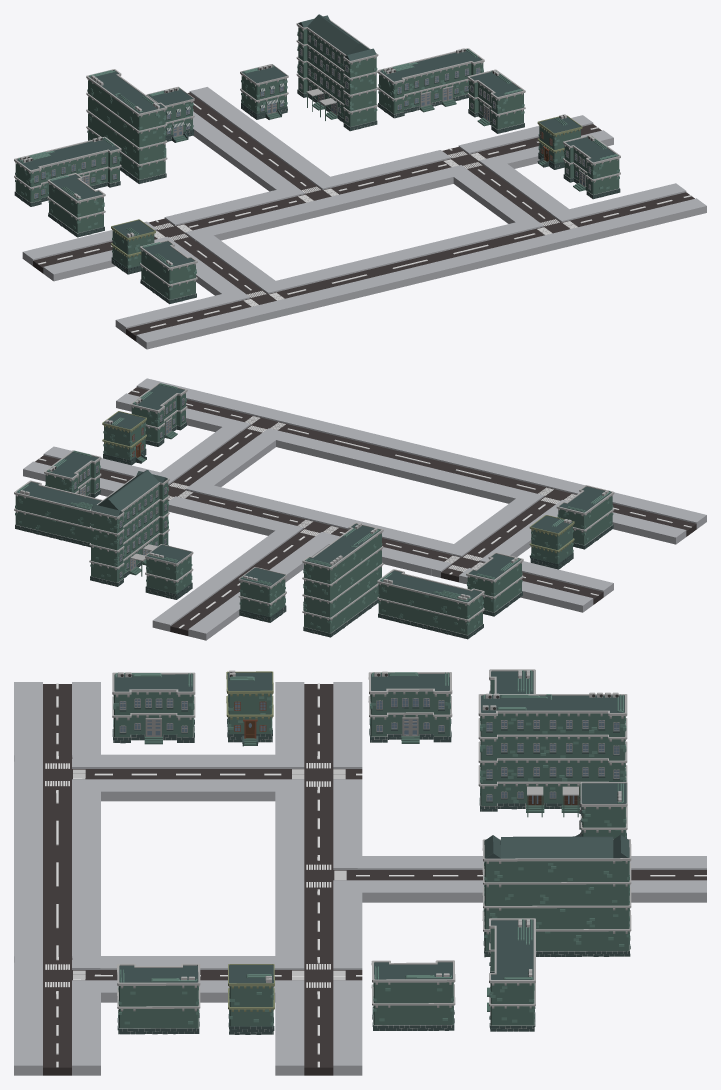
Rendered from city-new.fbx.
The picture shows the model from 3 angles, top to bottom: view 1: azimuth 30°, elevation 25°; view 2: azimuth 150°, elevation 25°; view 3: azimuth 270°, elevation 25°; orthographic projection. The views are drawn at different scales.
Parts seen in each view (by area): view 1: Street_Straight.001_Cube.012, 4Story_Wide_2Doors_Roof_Mat_Cube.004, 4Story_Wide_2Doors_Mat_Cube.013, 2Story_Wide_2Doors_Mat_Cube.001, 2Story_Wide_2Doors_Mat_Cube.002, Street_Straight.001_Cube.011, Street_Straight.001_Cube.010, Street_Straight.001_Cube.004, Street_Straight.001_Cube.001, Street_Straight.001_Cube.006, Street_Straight.001_Cube.002, Street_Straight.001_Cube.003 (+16 smaller); view 2: Street_Straight.001_Cube.012, 4Story_Wide_2Doors_Mat_Cube.013, 4Story_Wide_2Doors_Roof_Mat_Cube.004, 2Story_Wide_2Doors_Mat_Cube.002, 2Story_Wide_2Doors_Mat_Cube.001, Street_Straight.001_Cube.002, Street_Straight.001_Cube.004, Street_Straight.001_Cube.007, Street_Straight.001_Cube.011, Street_Straight.001_Cube.003, Street_Straight.001_Cube.008, Street_Straight.001_Cube.006 (+16 smaller); view 3: 4Story_Wide_2Doors_Mat_Cube.013, 4Story_Wide_2Doors_Roof_Mat_Cube.004, Street_Straight.001_Cube.012, Street_Straight.001_Cube.003, Street_Straight.001_Cube.009, Street_Straight.001_Cube.010, Street_Straight.001_Cube.008, Street_Straight.001_Cube.011, Street_Straight.001_Cube.001, Street_Straight.001_Cube.002, 2Story_Wide_Mat_Cube.004, 2Story_Wide_Mat_Cube.002 (+15 smaller).
Boxes of the visible parts, x1=… form: Street_Straight.001_Cube.012: x1=276, y1=222, x2=546, y2=310; 4Story_Wide_2Doors_Roof_Mat_Cube.004: x1=296, y1=14, x2=378, y2=131; 4Story_Wide_2Doors_Mat_Cube.013: x1=86, y1=69, x2=167, y2=183; 2Story_Wide_2Doors_Mat_Cube.001: x1=377, y1=48, x2=484, y2=118; 2Story_Wide_2Doors_Mat_Cube.002: x1=14, y1=136, x2=121, y2=206; Street_Straight.001_Cube.011: x1=115, y1=294, x2=253, y2=349; Street_Straight.001_Cube.010: x1=569, y1=183, x2=706, y2=238; Street_Straight.001_Cube.004: x1=453, y1=163, x2=568, y2=223; Street_Straight.001_Cube.001: x1=180, y1=190, x2=307, y2=240; Street_Straight.001_Cube.006: x1=216, y1=132, x2=329, y2=191; Street_Straight.001_Cube.002: x1=330, y1=152, x2=459, y2=206; Street_Straight.001_Cube.003: x1=174, y1=235, x2=275, y2=295; Street_Straight.001_Cube.012: x1=276, y1=417, x2=546, y2=503; 4Story_Wide_2Doors_Mat_Cube.013: x1=302, y1=522, x2=383, y2=637; 4Story_Wide_2Doors_Roof_Mat_Cube.004: x1=89, y1=470, x2=169, y2=586; 2Story_Wide_2Doors_Mat_Cube.002: x1=377, y1=569, x2=484, y2=639; 2Story_Wide_2Doors_Mat_Cube.001: x1=14, y1=480, x2=102, y2=547; Street_Straight.001_Cube.002: x1=174, y1=485, x2=305, y2=535; Street_Straight.001_Cube.004: x1=160, y1=427, x2=275, y2=486; Street_Straight.001_Cube.007: x1=152, y1=574, x2=240, y2=640; Street_Straight.001_Cube.011: x1=612, y1=492, x2=706, y2=544; Street_Straight.001_Cube.003: x1=453, y1=498, x2=558, y2=557; Street_Straight.001_Cube.008: x1=520, y1=561, x2=613, y2=612; Street_Straight.001_Cube.006: x1=215, y1=530, x2=328, y2=582; 4Story_Wide_2Doors_Mat_Cube.013: x1=478, y1=692, x2=627, y2=817; 4Story_Wide_2Doors_Roof_Mat_Cube.004: x1=482, y1=834, x2=631, y2=957; Street_Straight.001_Cube.012: x1=14, y1=791, x2=100, y2=962; Street_Straight.001_Cube.003: x1=100, y1=754, x2=276, y2=801; Street_Straight.001_Cube.009: x1=275, y1=992, x2=362, y2=1075; Street_Straight.001_Cube.010: x1=14, y1=992, x2=100, y2=1075; Street_Straight.001_Cube.008: x1=275, y1=682, x2=362, y2=757; Street_Straight.001_Cube.011: x1=14, y1=682, x2=100, y2=761; Street_Straight.001_Cube.001: x1=275, y1=785, x2=362, y2=860; Street_Straight.001_Cube.002: x1=275, y1=889, x2=362, y2=963; 2Story_Wide_Mat_Cube.004: x1=112, y1=672, x2=195, y2=744; 2Story_Wide_Mat_Cube.002: x1=368, y1=671, x2=452, y2=743.
Size of the model in its own units: 4177 by 604 by 3188.
